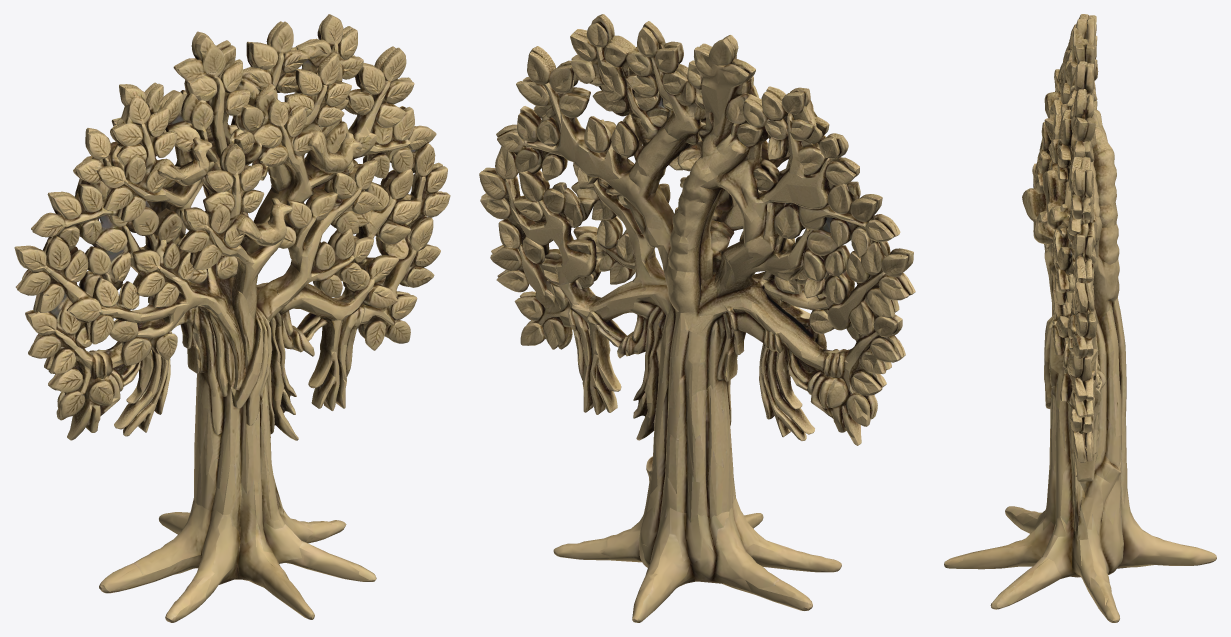
The model's file is life-changing-astro-kalpavriksha-tree-bronze-showpiece-1-inc.glb.
3 renders of one model, left to right at view 1: azimuth 30°, elevation 25°; view 2: azimuth 150°, elevation 25°; view 3: azimuth 270°, elevation 25°, orthographic. The views are drawn at different scales.
Parts seen in each view (by area): view 1: Mesh_0; view 2: Mesh_0; view 3: Mesh_0.
Boxes of the visible parts, left/top/right/bottom form: Mesh_0: left=14, top=14, right=450, bottom=622; Mesh_0: left=479, top=14, right=915, bottom=622; Mesh_0: left=944, top=14, right=1216, bottom=622.
Bounding box in the file's own units: 1.58 × 1.9 × 0.8856.
1 material, 1 textured.
